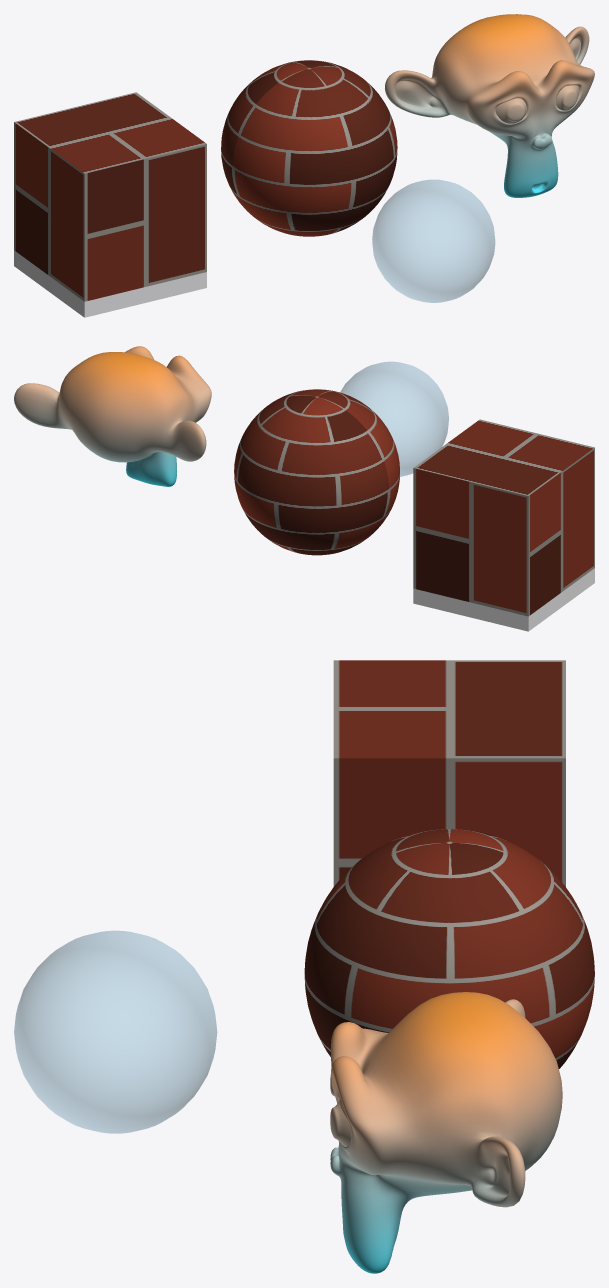
File: materials.glb
The picture shows the model from 3 angles, top to bottom: view 1: azimuth 30°, elevation 25°; view 2: azimuth 150°, elevation 25°; view 3: azimuth 270°, elevation 25°; orthographic projection. The views are drawn at different scales.
Parts seen in each view (by area): view 1: Brick Cube, Brick Sphere, Vertex Paint, Glass Ball, Metal Plate; view 2: Brick Cube, Brick Sphere, Vertex Paint, Glass Ball, Metal Plate; view 3: Brick Sphere, Vertex Paint, Brick Cube, Glass Ball.
Boxes of the visible parts, box(x1,y1,x2,y2) form: Brick Cube: box(14, 92, 206, 301); Brick Sphere: box(221, 60, 397, 236); Vertex Paint: box(385, 14, 594, 197); Glass Ball: box(372, 179, 495, 302); Metal Plate: box(14, 250, 206, 317); Brick Cube: box(413, 419, 594, 616); Brick Sphere: box(234, 389, 399, 555); Vertex Paint: box(14, 346, 211, 486); Glass Ball: box(340, 361, 448, 476); Metal Plate: box(413, 568, 594, 631); Brick Sphere: box(304, 829, 594, 1068); Vertex Paint: box(330, 992, 562, 1273); Brick Cube: box(333, 660, 565, 886); Glass Ball: box(14, 930, 217, 1133).
Bounding box in the file's own units: 7.33 × 2 × 4.
Materials: 4 (1 with a texture image).
